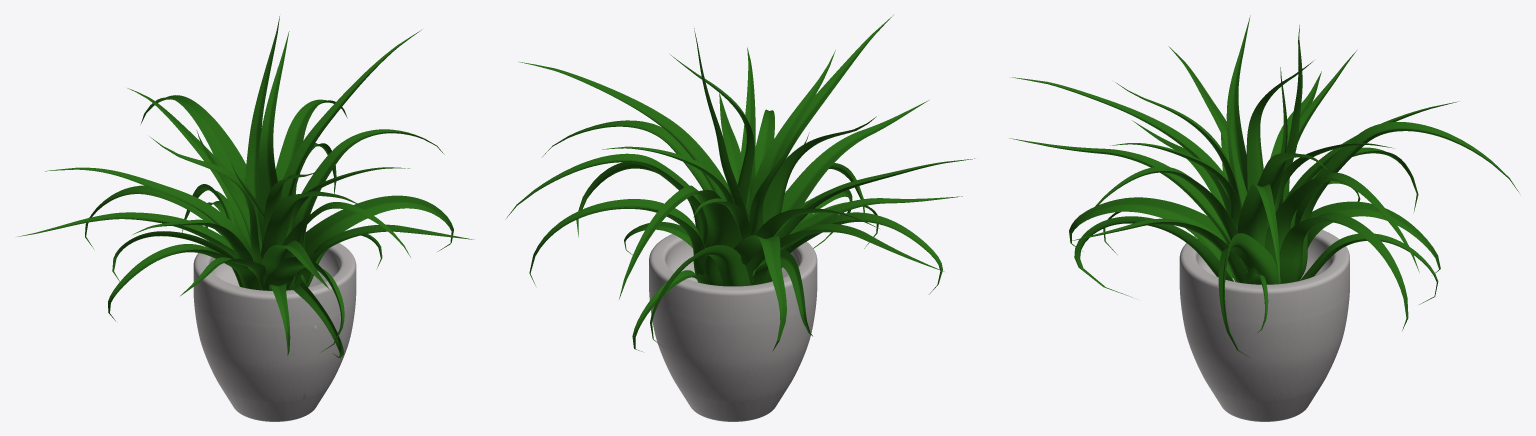
Rendered from simple_pot_and_plant.glb.
The picture shows the model from 3 angles, left to right: view 1: azimuth 30°, elevation 25°; view 2: azimuth 150°, elevation 25°; view 3: azimuth 270°, elevation 25°; orthographic projection. The views are drawn at different scales.
Visible parts, largest first — view 1: planta join.001, POT; view 2: planta join.001, POT; view 3: planta join.001, POT.
Part boxes in pixels (x1,y1,x2,y2): planta join.001: (17,16,474,358); POT: (193,243,356,421); planta join.001: (505,15,974,351); POT: (649,234,817,421); planta join.001: (1010,15,1519,357); POT: (1179,229,1349,421).
Bounding box in the file's own units: 0.1467 × 0.1271 × 0.1512.
